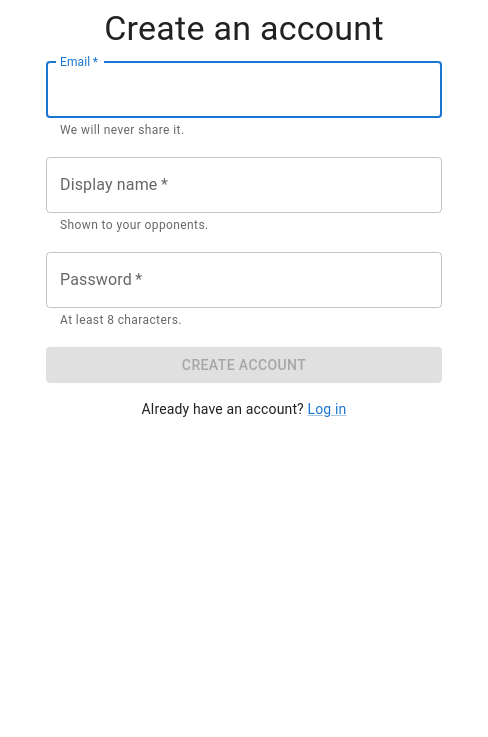
Test: Register page › shows an error alert and does not navigate on EMAIL_ALREADY_TAKEN
The width and height of the screenshot is (488, 737).
Step 1. Type "ada@example.com" into the field labelled "Email *" → (244, 90), box left=46, top=62, right=442, bottom=118
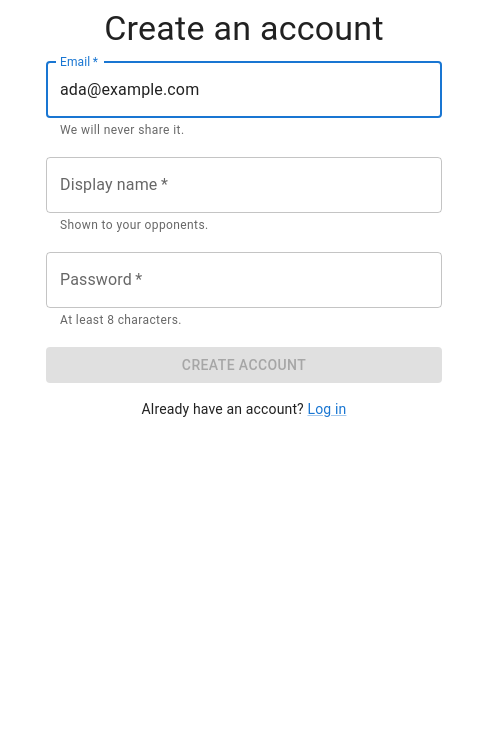
Step 2. Type "Ada" into the field labelled "Display name *" → (244, 185), box left=46, top=157, right=442, bottom=213
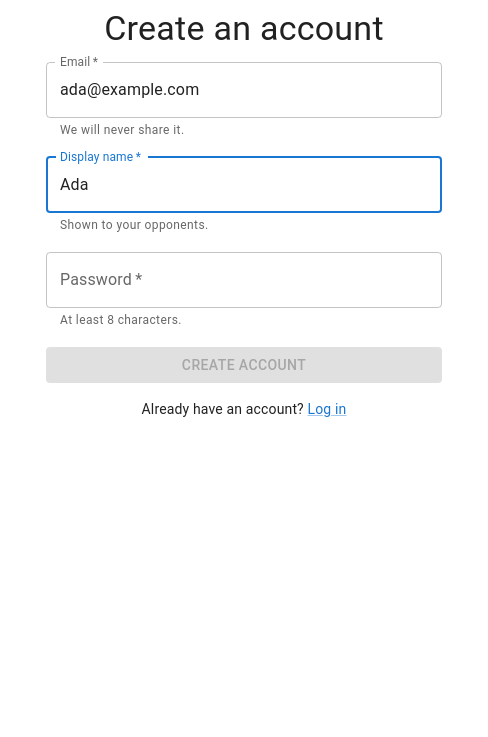
Step 3. Type "hunter2hunter2" into the password field labelled "Password *" → (244, 280), box left=46, top=252, right=442, bottom=308
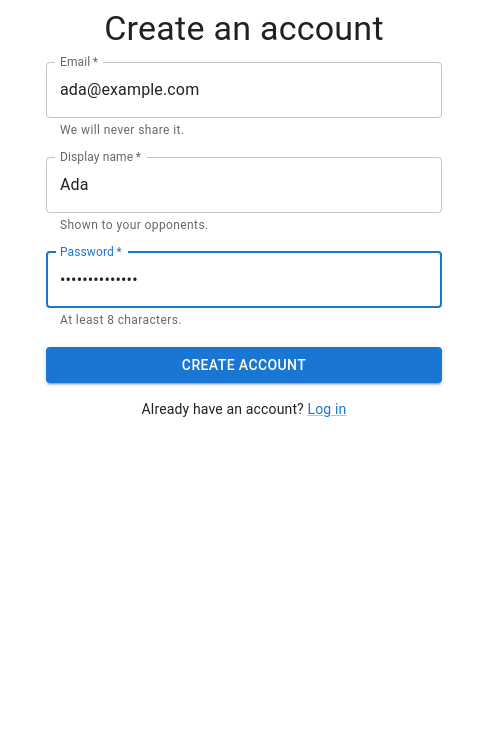
Step 4. Click the button "Create account" → (244, 365), box left=46, top=347, right=442, bottom=383
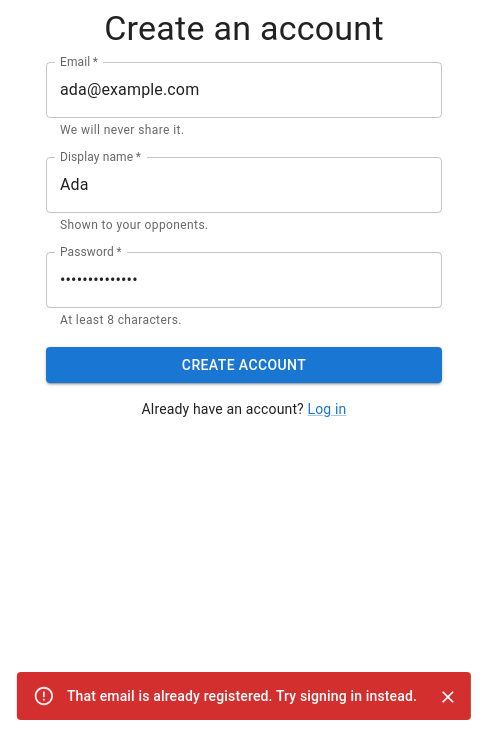
Check: the text "That email is already registered. Try signing in instead." is shown, box left=67, top=688, right=417, bottom=704
